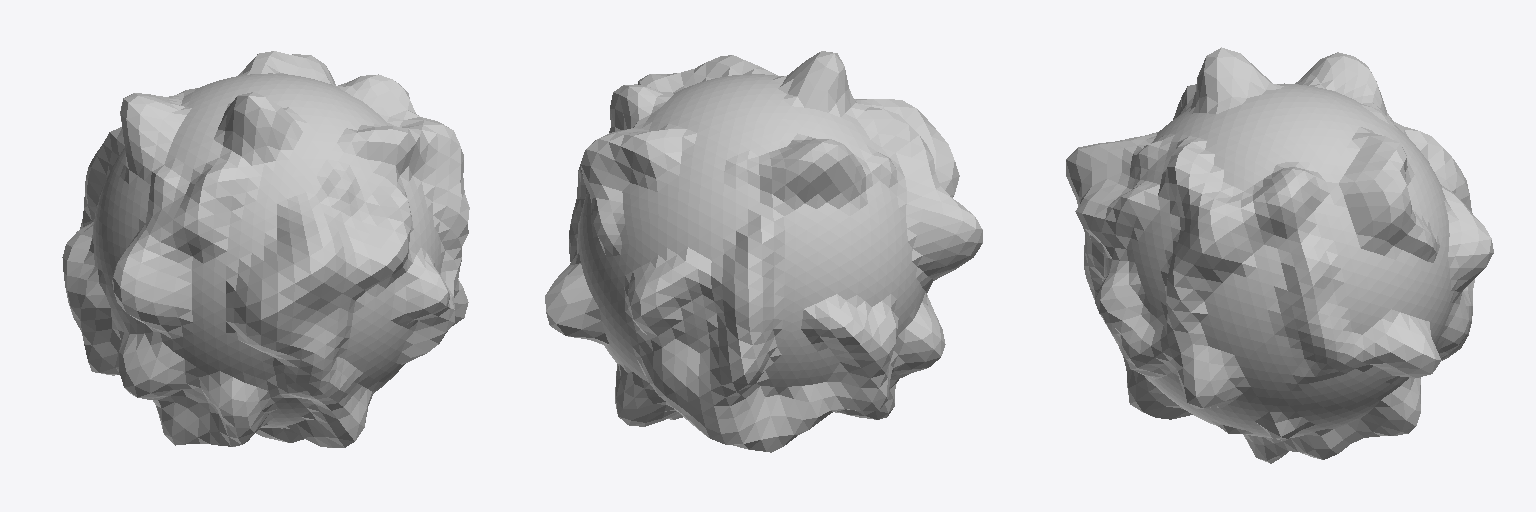
The model's file is prop-planet.obj.
3 views of the same model, side by side, from view 1: azimuth 30°, elevation 25°; view 2: azimuth 150°, elevation 25°; view 3: azimuth 270°, elevation 25° (orthographic).
Visible parts, largest first — view 1: Planet_Icosphere.001; view 2: Planet_Icosphere.001; view 3: Planet_Icosphere.001.
Part boxes in pixels (left/top/right/bottom): Planet_Icosphere.001: left=62, top=51, right=469, bottom=447; Planet_Icosphere.001: left=545, top=51, right=982, bottom=452; Planet_Icosphere.001: left=1066, top=47, right=1493, bottom=463.
Bounding box in the file's own units: 17.24 × 17.82 × 18.15.